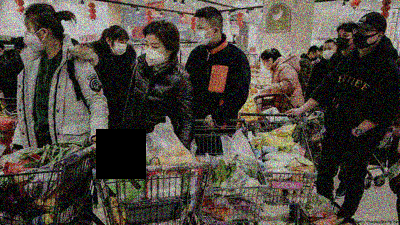with_mask: (145, 39, 170, 67), (24, 24, 47, 52), (354, 25, 379, 50), (195, 22, 216, 46), (336, 31, 354, 49), (111, 38, 127, 56), (323, 46, 337, 61), (262, 60, 273, 70), (311, 53, 319, 62)
